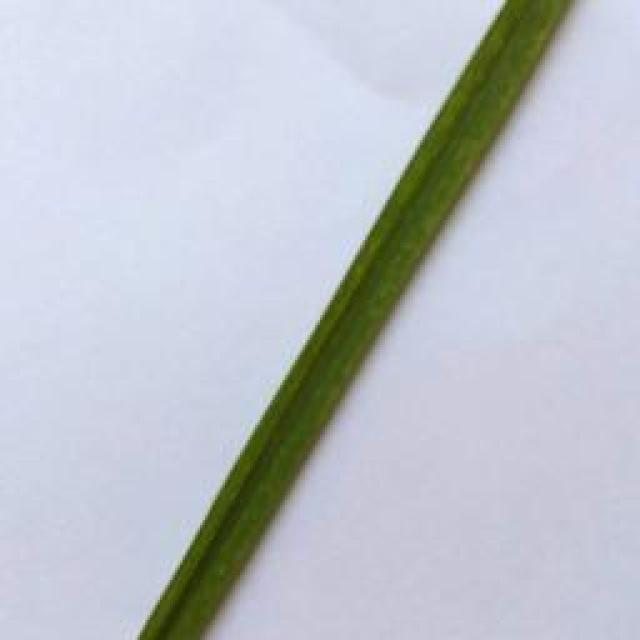Healthy-Plant: (137, 0, 573, 640)
